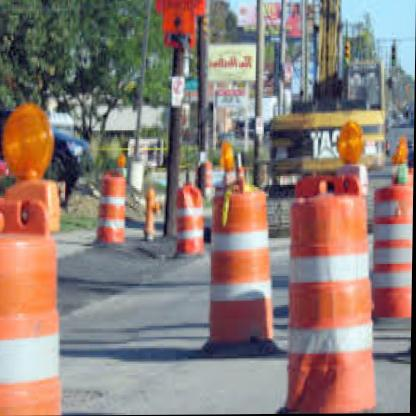obstacle: (281, 189, 372, 414), (209, 183, 273, 350), (96, 172, 129, 246)
